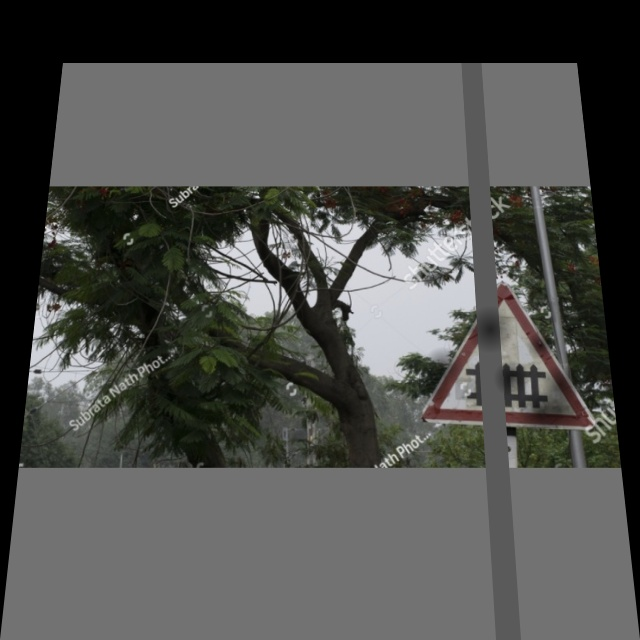Guarded_Level_Crossing: (419, 283, 591, 428)
